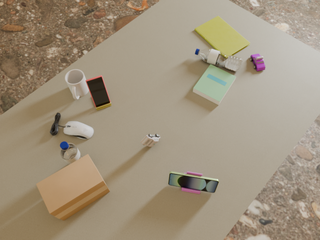book: (195, 16, 250, 55), (193, 64, 236, 105)
bottle: (195, 48, 242, 71), (60, 142, 83, 165)
box: (36, 154, 110, 220)
cup: (65, 69, 89, 99)
mouse: (64, 122, 94, 139)
phone: (168, 172, 219, 193), (86, 75, 110, 107)
toy_car: (250, 54, 265, 71), (140, 134, 160, 146)
